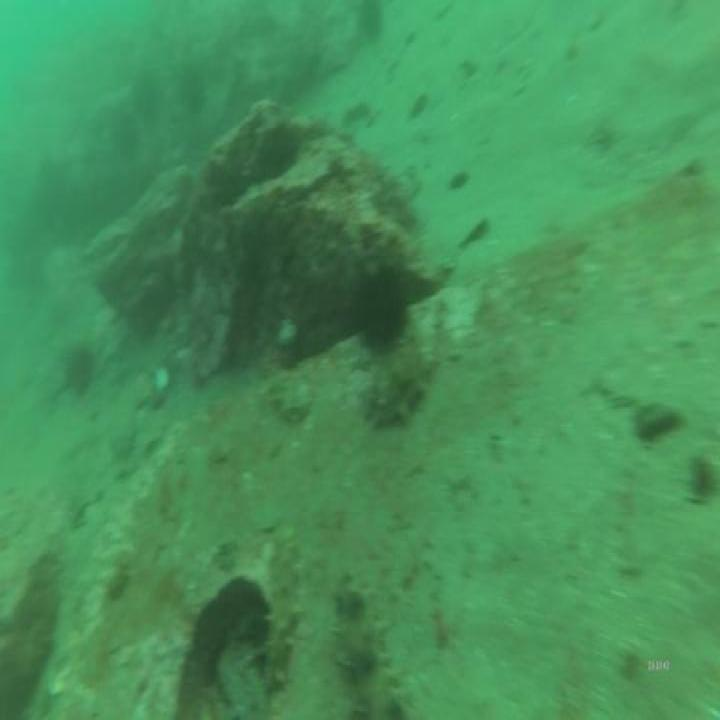echinus: (350, 252, 417, 364), (257, 114, 299, 185)
holothurian: (330, 569, 411, 720), (262, 521, 310, 695), (364, 336, 442, 437)
